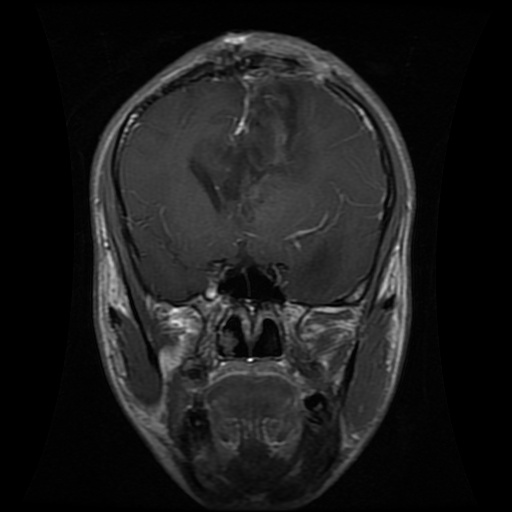glioma: (186, 79, 303, 213)
